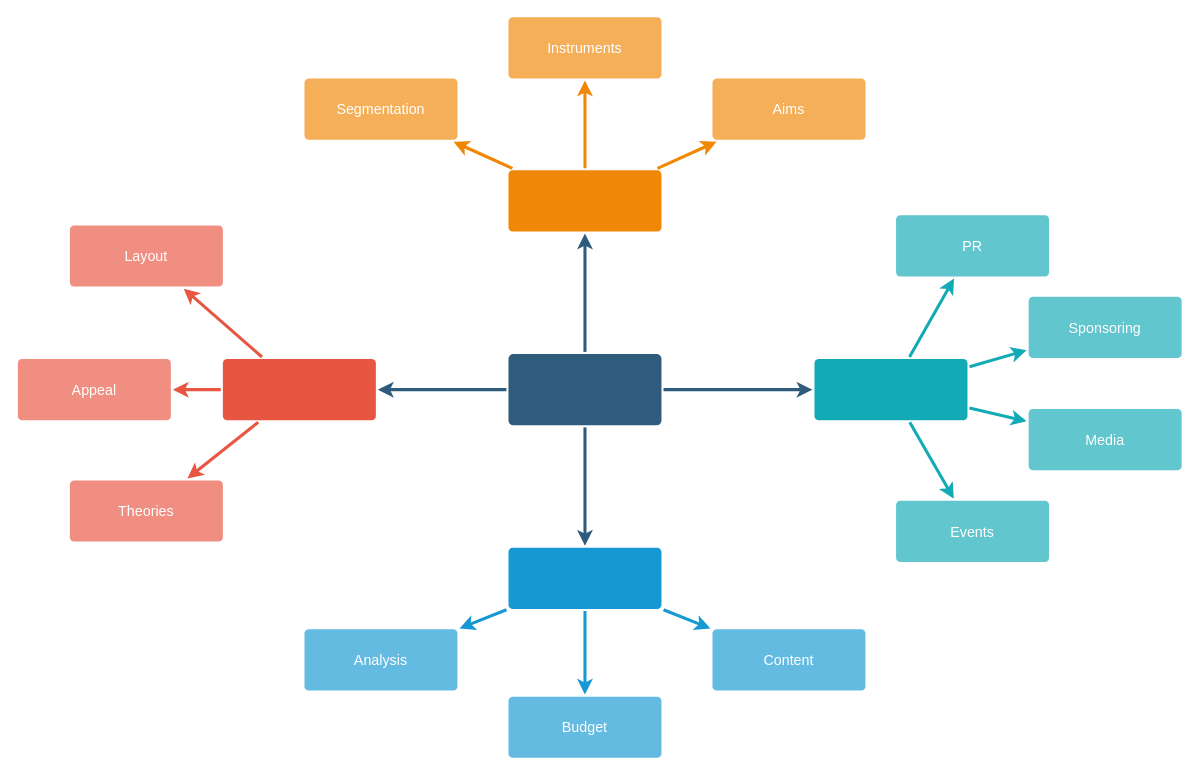
This 1199x775 diagram has some shape labels left out. The box of each missing label's shape, as (x1, y1, x2, y2) in pixels:
Communication: (814, 359, 967, 420)
Embassy: (222, 359, 375, 420)
Marketing: (508, 170, 661, 231)
Organization: (508, 547, 661, 608)
